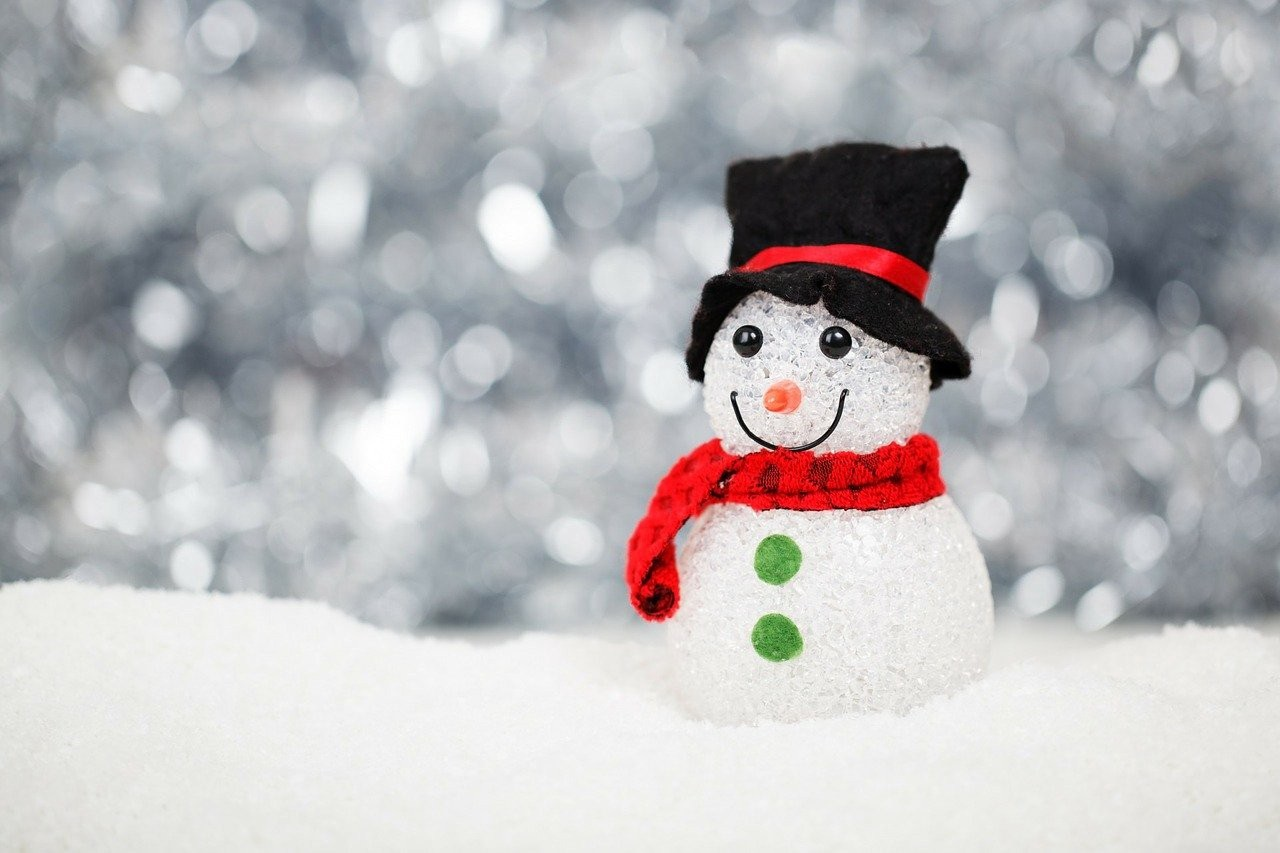person-like: (624, 131, 1008, 733)
